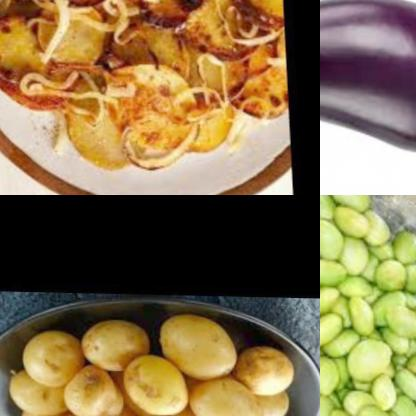beans: (320, 195, 416, 416)
eggplant: (320, 0, 416, 146)
onion: (12, 72, 114, 126), (117, 121, 201, 166), (188, 48, 234, 117), (217, 104, 261, 157), (28, 0, 65, 55), (222, 21, 283, 51), (97, 0, 140, 41), (42, 119, 69, 155)
potato: (0, 0, 288, 167), (161, 304, 238, 382), (78, 313, 154, 379), (121, 353, 193, 416), (17, 323, 86, 386), (231, 345, 298, 398), (62, 365, 131, 416), (7, 371, 82, 416), (186, 374, 266, 416), (250, 383, 293, 416)
